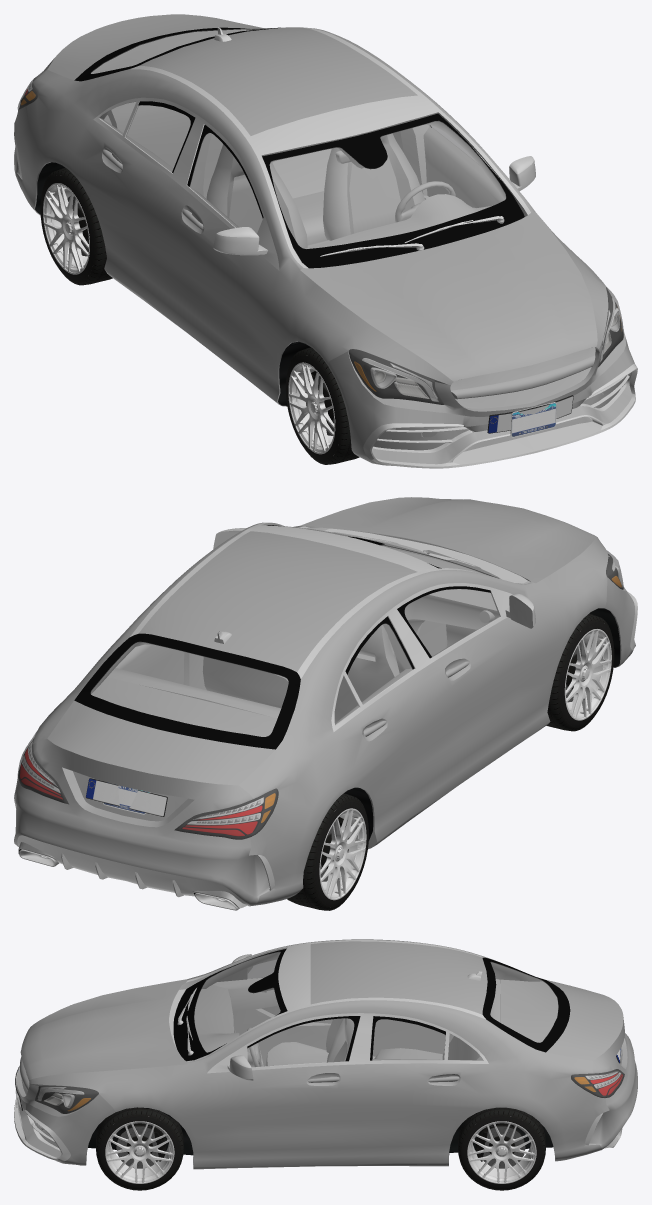
File: CivilianVehicle05.FBX
3 views of the same model, one above another, from view 1: azimuth 30°, elevation 25°; view 2: azimuth 150°, elevation 25°; view 3: azimuth 270°, elevation 25° (orthographic). The views are drawn at different scales.
Parts seen in each view (by area): view 1: Paint_LOD0, Body_LOD0, Windows_LOD0, Interior_LOD0, WheelRearRight_LOD0, WheelFrontRight_LOD0, Light_LOD0, PlateFrontTypeUSA_LOD0, PlateFrontTypeEU_LOD0, SteeringWheel_LOD0; view 2: Paint_LOD0, Windows_LOD0, Body_LOD0, Interior_LOD0, WheelRearRight_LOD0, WheelFrontRight_LOD0, Light_LOD0, PlateBackTypeEU_LOD0, ReverseLight_LOD0, BrakeLights_LOD0; view 3: Paint_LOD0, Windows_LOD0, Interior_LOD0, Body_LOD0, WheelRearLeft_LOD0, WheelFrontLeft_LOD0, Light_LOD0.
Boxes of the visible parts, x1,y1,x2,y2 form: Paint_LOD0: [14, 14, 634, 465]; Body_LOD0: [14, 27, 637, 468]; Windows_LOD0: [17, 27, 623, 404]; Interior_LOD0: [91, 29, 505, 248]; WheelRearRight_LOD0: [40, 167, 112, 285]; WheelFrontRight_LOD0: [285, 347, 359, 464]; Light_LOD0: [18, 82, 623, 404]; PlateFrontTypeUSA_LOD0: [510, 402, 556, 437]; PlateFrontTypeEU_LOD0: [487, 395, 573, 433]; SteeringWheel_LOD0: [395, 181, 455, 222]; Paint_LOD0: [14, 497, 634, 906]; Windows_LOD0: [17, 525, 623, 839]; Body_LOD0: [14, 522, 637, 910]; Interior_LOD0: [91, 545, 500, 736]; WheelRearRight_LOD0: [287, 793, 368, 910]; WheelFrontRight_LOD0: [546, 613, 614, 731]; Light_LOD0: [18, 554, 622, 839]; PlateBackTypeEU_LOD0: [86, 778, 167, 816]; ReverseLight_LOD0: [21, 742, 262, 824]; BrakeLights_LOD0: [20, 749, 262, 834]; Paint_LOD0: [16, 939, 637, 1169]; Windows_LOD0: [35, 951, 624, 1113]; Interior_LOD0: [194, 952, 558, 1067]; Body_LOD0: [14, 940, 622, 1164]; WheelRearLeft_LOD0: [458, 1107, 545, 1190]; WheelFrontLeft_LOD0: [96, 1107, 183, 1190]; Light_LOD0: [35, 1069, 624, 1113].
Size of what is drawn, in the model's own units: 79.54 by 56.8 by 182.
